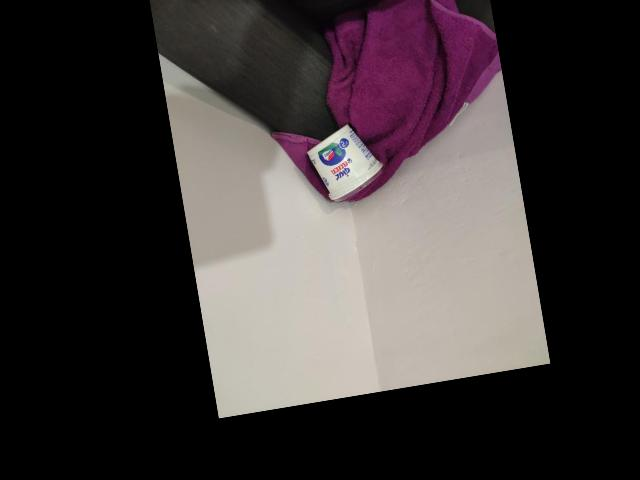cotage: (307, 123, 386, 207)
